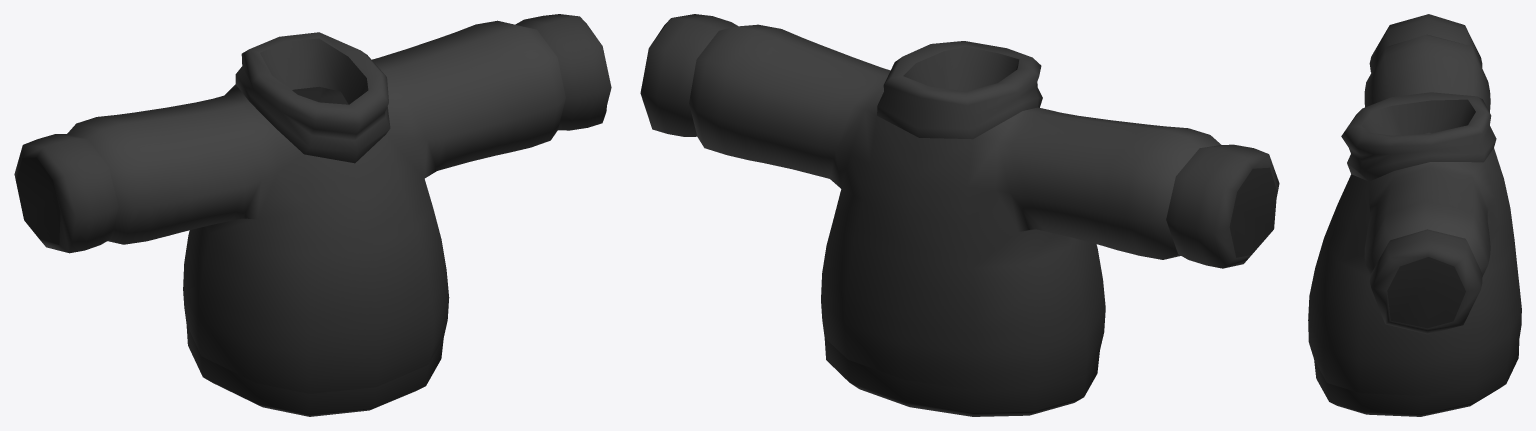
Rendered from Top_20.fbx.
3 views of the same model, side by side, from view 1: azimuth 30°, elevation 25°; view 2: azimuth 150°, elevation 25°; view 3: azimuth 270°, elevation 25° (orthographic). The views are drawn at different scales.
Parts seen in each view (by area): view 1: Top_20; view 2: Top_20; view 3: Top_20.
Part boxes in pixels (x1,y1,x2,y2): Top_20: (14, 14, 611, 416); Top_20: (640, 14, 1279, 416); Top_20: (1308, 14, 1521, 416).
Bounding box in the file's own units: 98 × 52.42 × 37.16.
